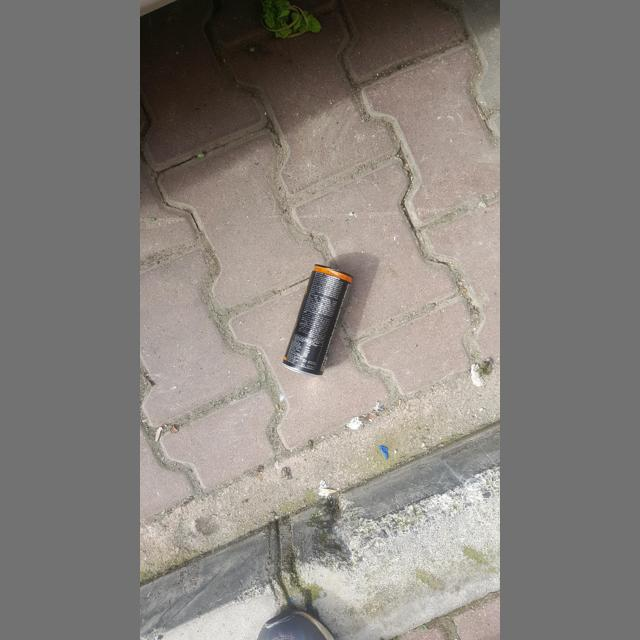litter: (282, 264, 354, 377), (261, 1, 321, 38), (379, 445, 388, 460)
